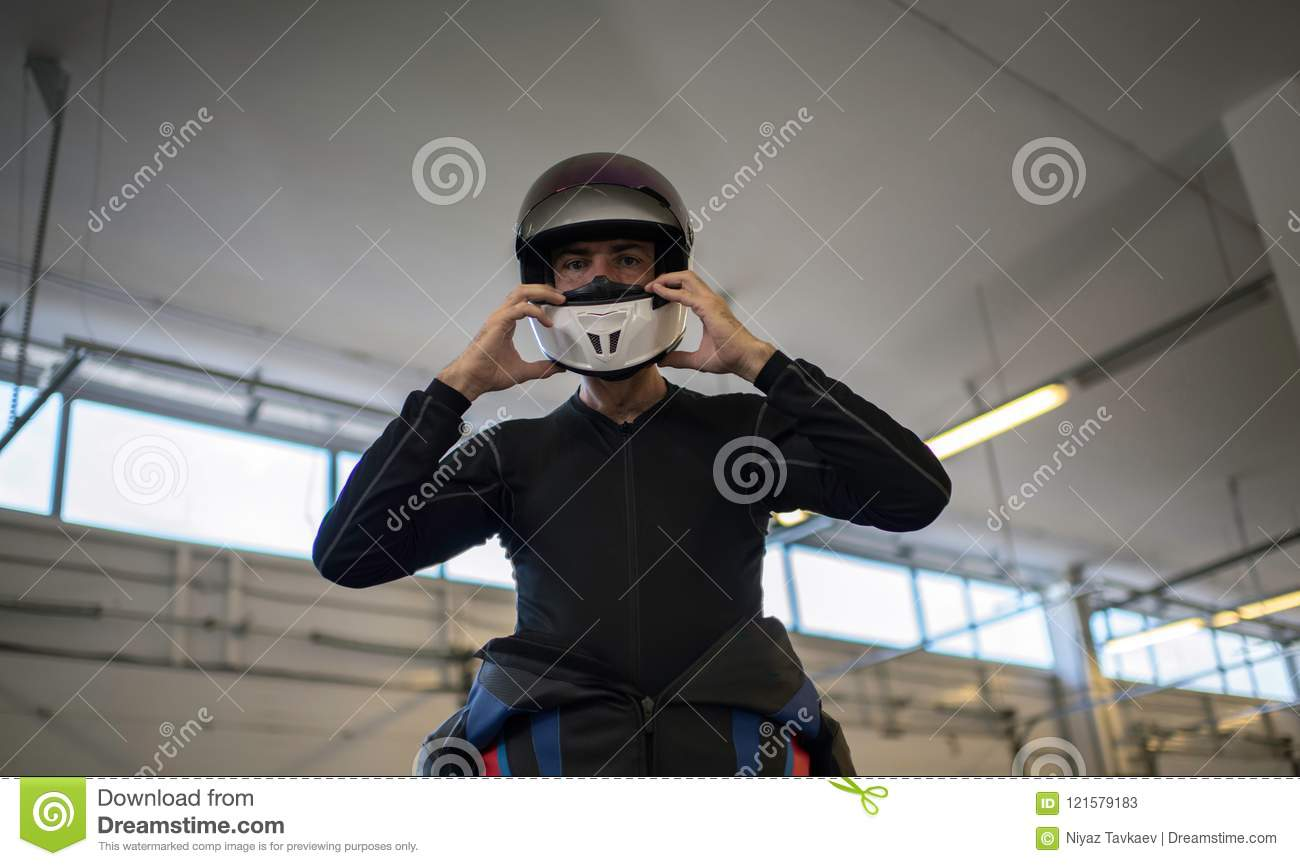helmet: (504, 147, 689, 372)
